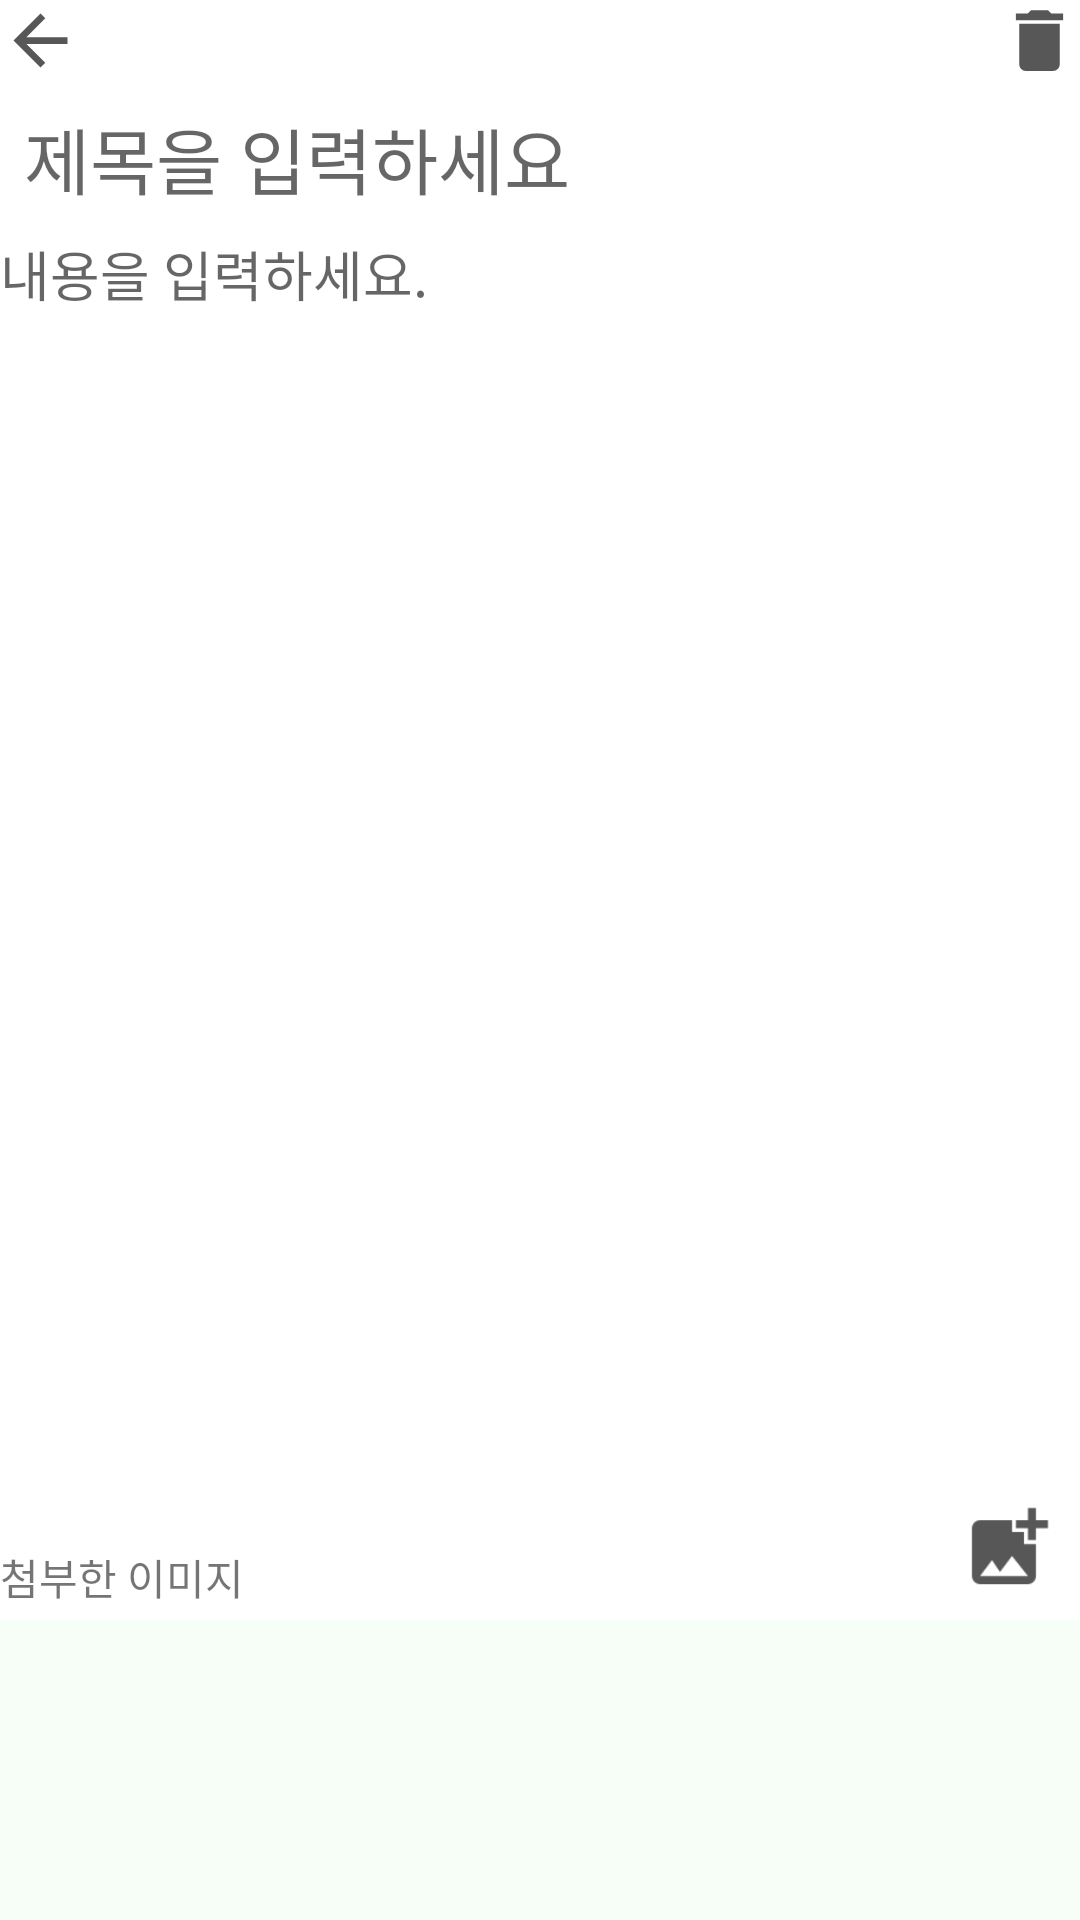

Icons on this 1080x1920 Android screen, each with its box as (x1, y1, x2, y2):
add: (971, 1507, 1049, 1585)
back: (13, 13, 68, 68)
delete: (1016, 10, 1063, 71)
